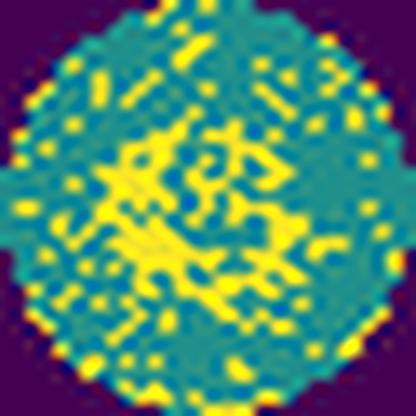Donut: (82, 93, 349, 340)
